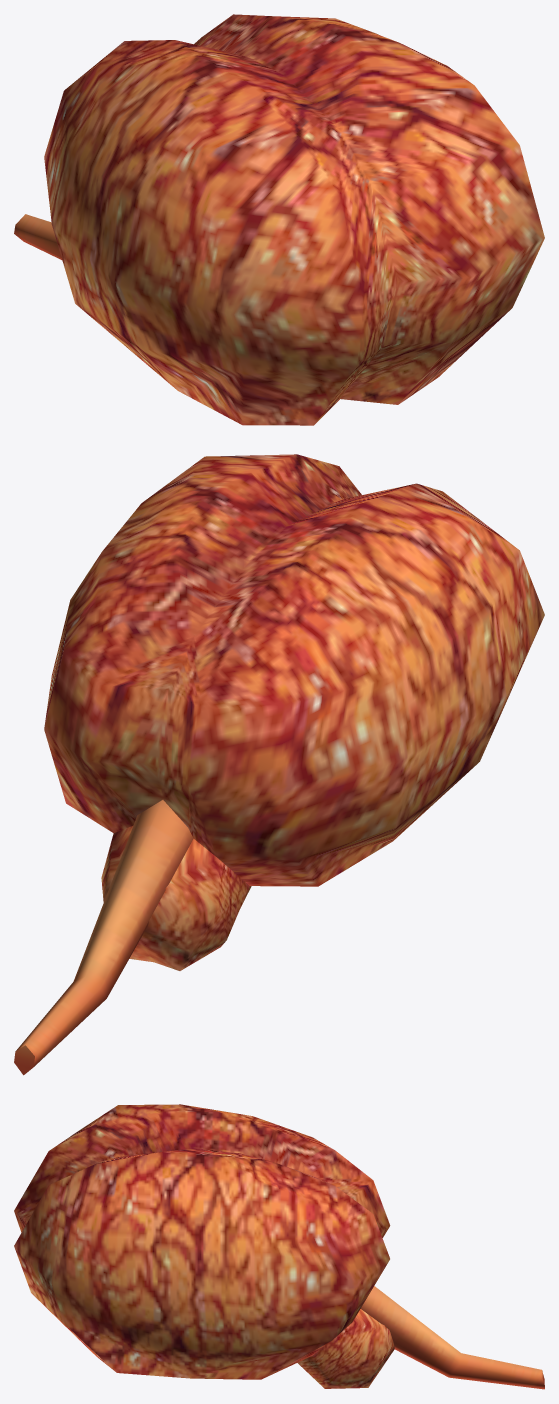
The model's file is eqp_organ_brain_s01_l1.fbx.
3 views of the same model, one above another, from view 1: azimuth 30°, elevation 25°; view 2: azimuth 150°, elevation 25°; view 3: azimuth 270°, elevation 25° (orthographic). The views are drawn at different scales.
Parts seen in each view (by area): view 1: mesh_node; view 2: mesh_node; view 3: mesh_node.
Part boxes in pixels (x1,y1,x2,y2): mesh_node: [14, 14, 544, 425]; mesh_node: [14, 454, 544, 1075]; mesh_node: [14, 1104, 544, 1389].
Bounding box in the file's own units: 0.1897 × 0.1774 × 0.3335.
